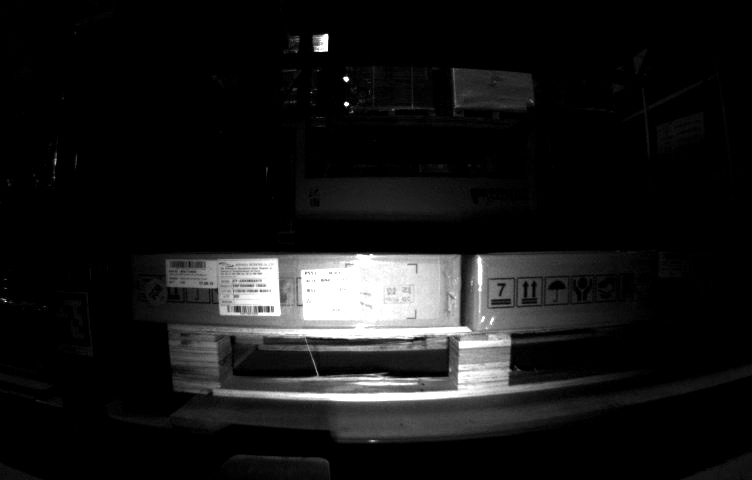True Barcode: (218, 260, 280, 315)
